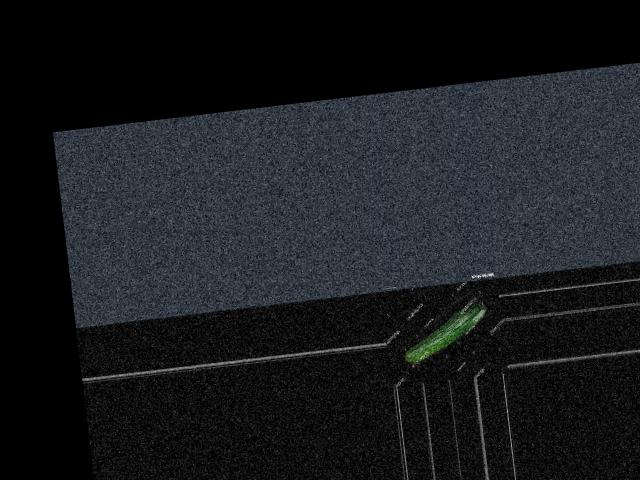cucumber: (398, 299, 491, 363)
